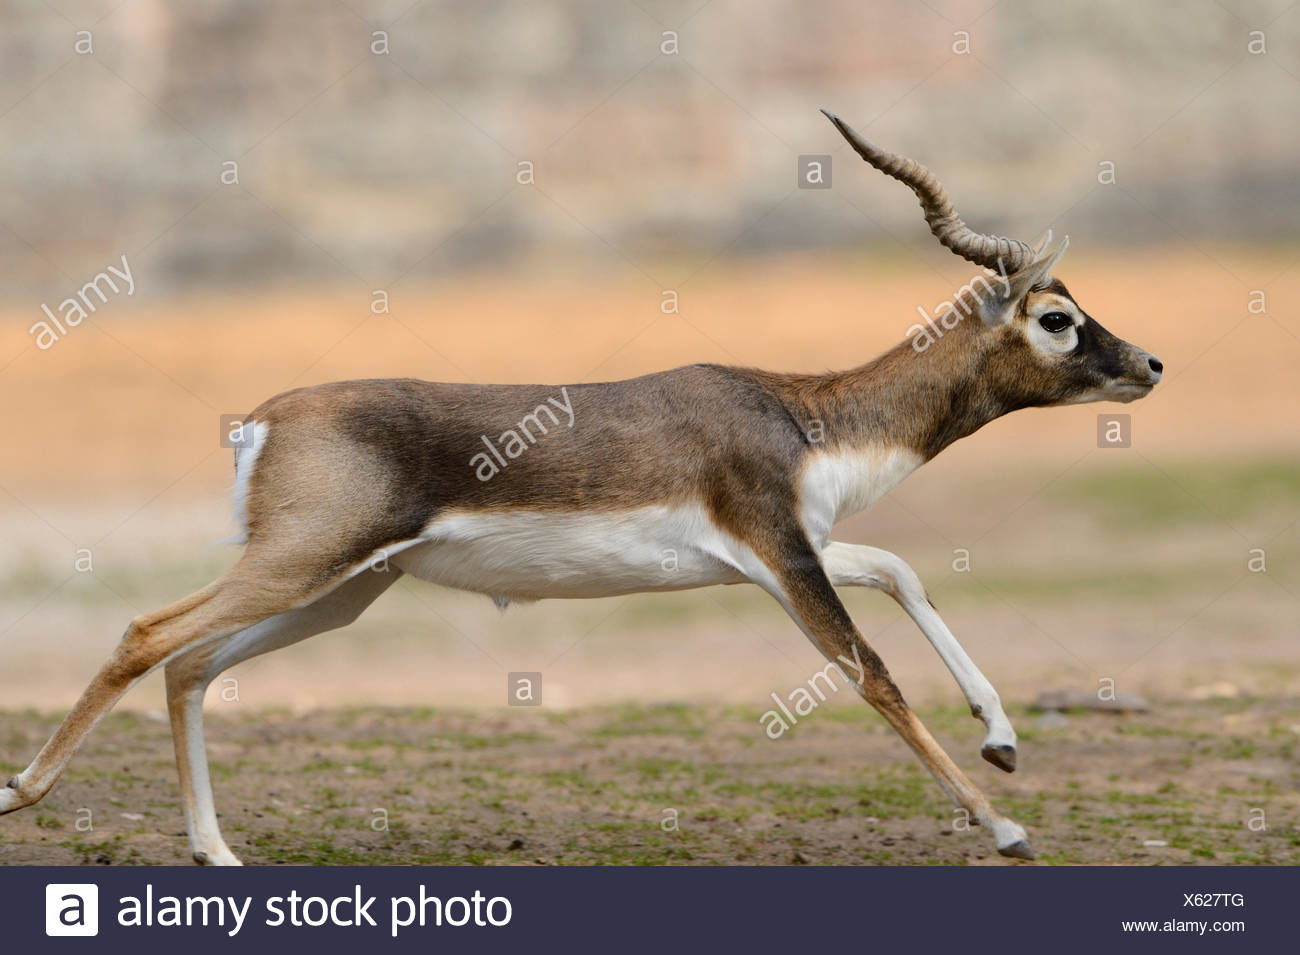Blackbuck: (1, 113, 1170, 869)
